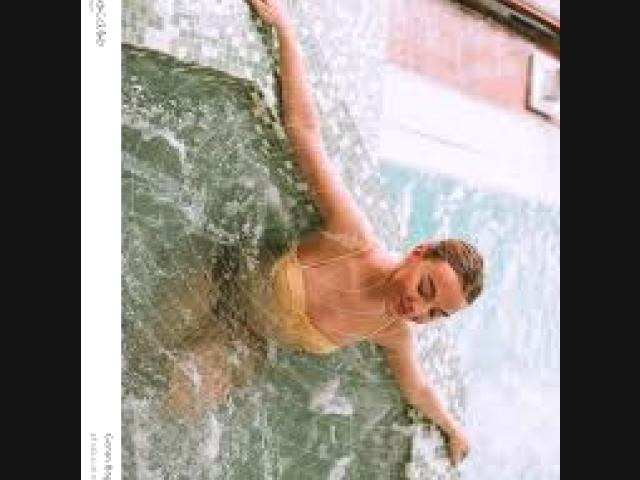swimming: (148, 78, 478, 457)
